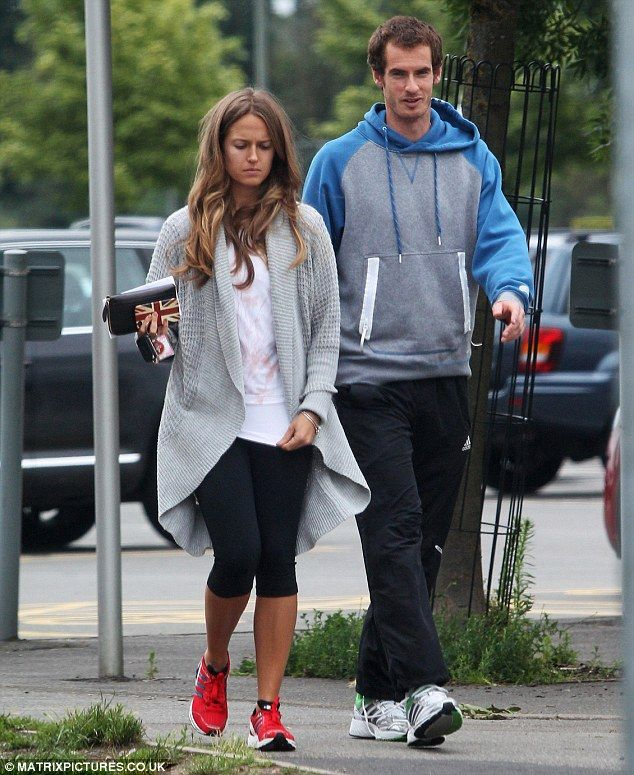Person: (333, 17, 533, 749), (140, 87, 340, 751)
